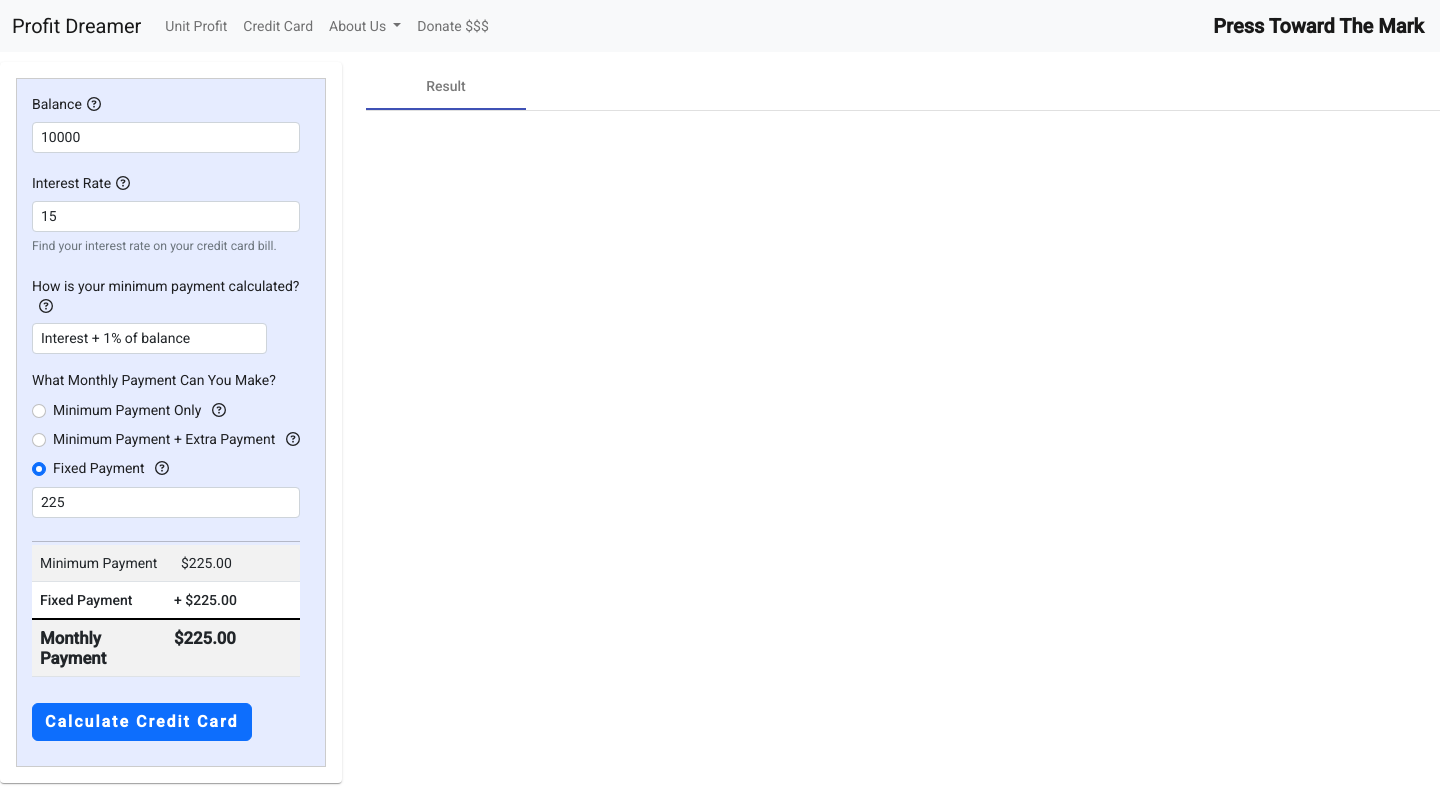
Scenario: credit-card-fixed-payment-validation.cy.ts › 10,000 15% payment fixed › set balance to 11000 › must be greater than min payment should visibile and shown
The width and height of the screenshot is (1440, 800).
Replace the text in the field with id "balance" with "11000" at (166, 138), box x1=32 y1=122 x2=300 y2=153
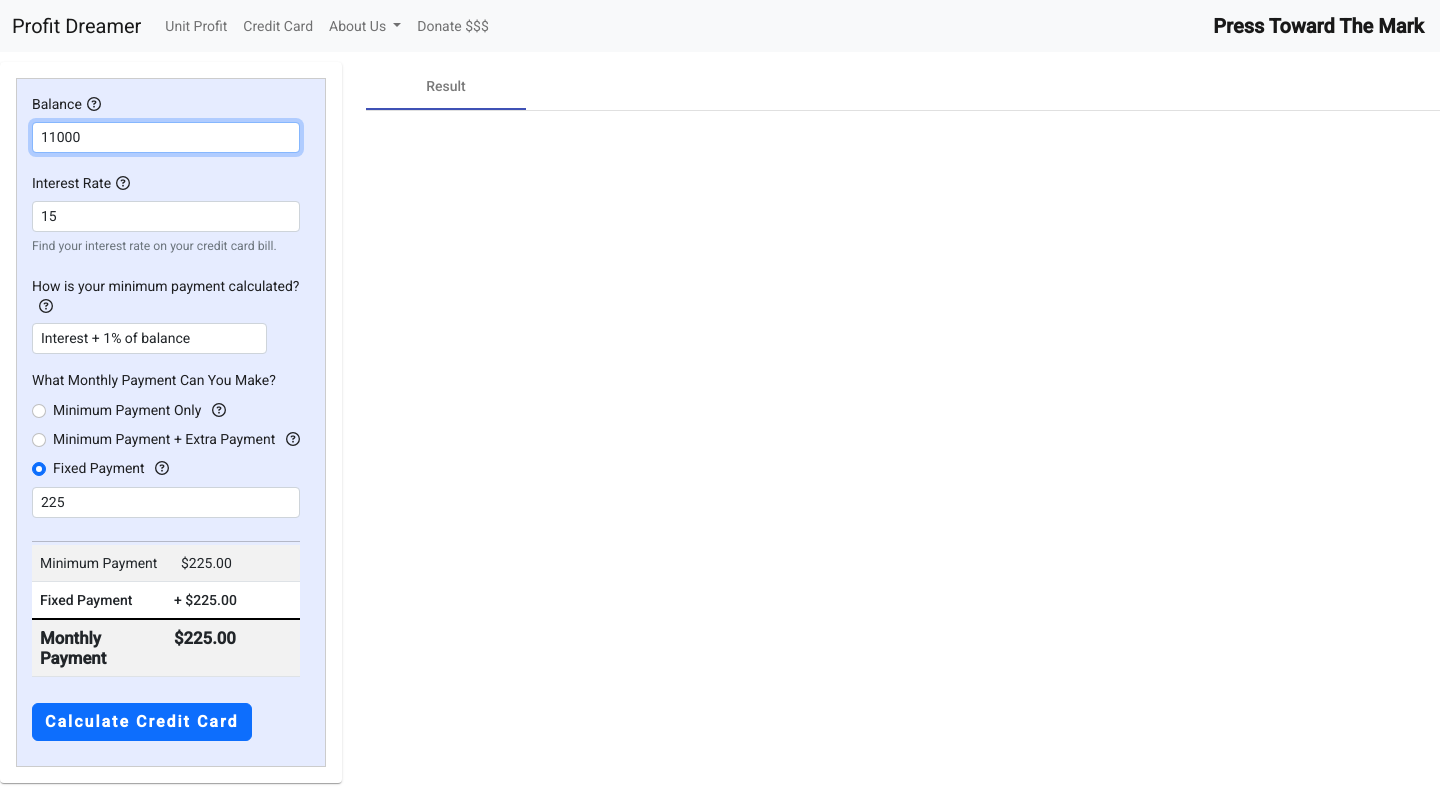
Leave the field with id "balance", box x1=32 y1=122 x2=300 y2=153
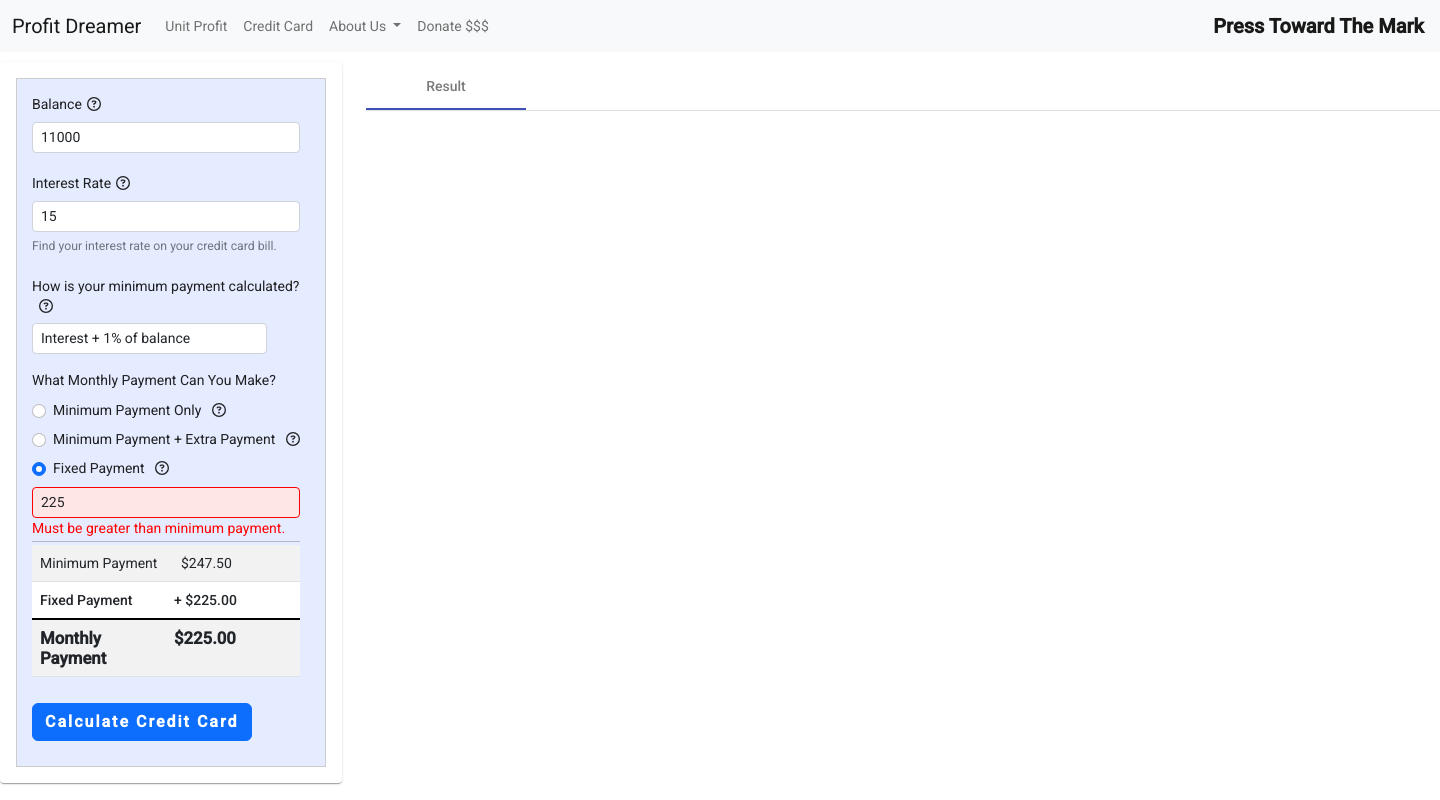
Now the text with id "fixed-payment-error" reads "Must be greater than minimum payment.", box x1=32 y1=518 x2=300 y2=538
